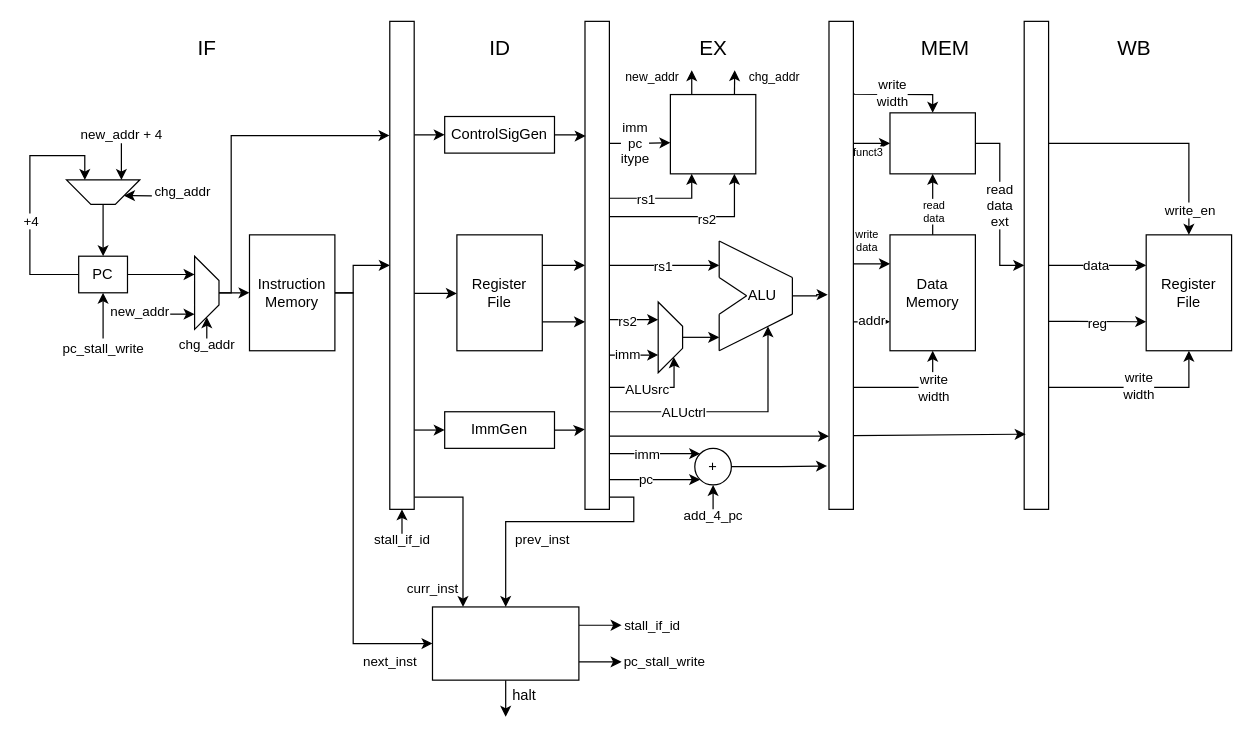
The diagram is 1253 pixels wide and 748 high, and some of its shapes have lost their labels. The shapes that lost their labels are listed below. From the top down, each one's centre as x and y in pixels, then its label:
At pixel 712 133: "JumpBranch Calculate".
At pixel 932 143: "Load Extend".
At pixel 505 643: "Orchestrator".
